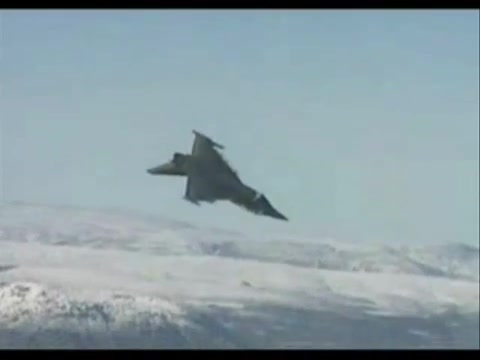aeroplane: (147, 129, 292, 223)
